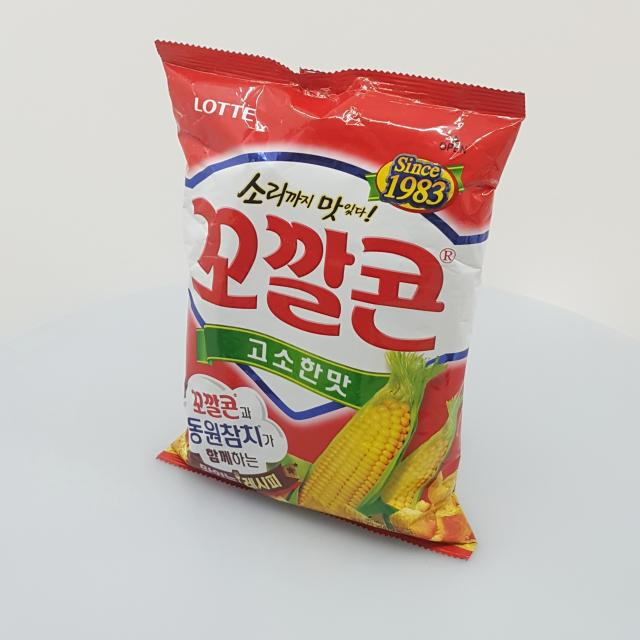-72G: (156, 40, 527, 562)
